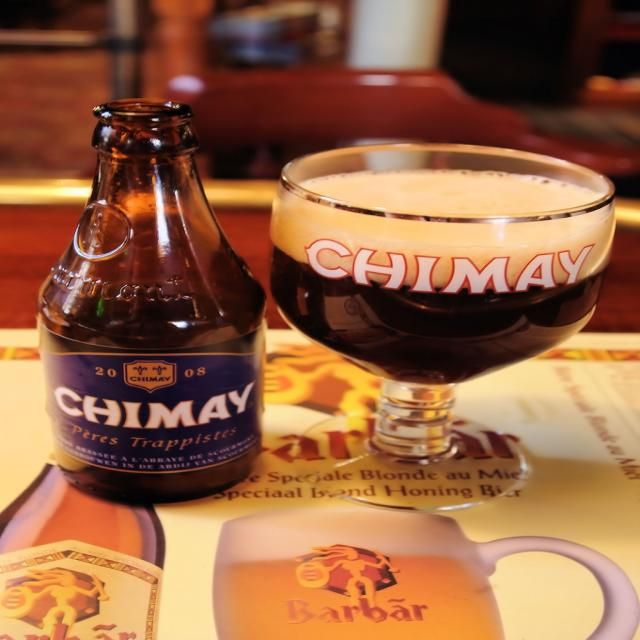chimay: (41, 353, 261, 475), (300, 235, 600, 300)
